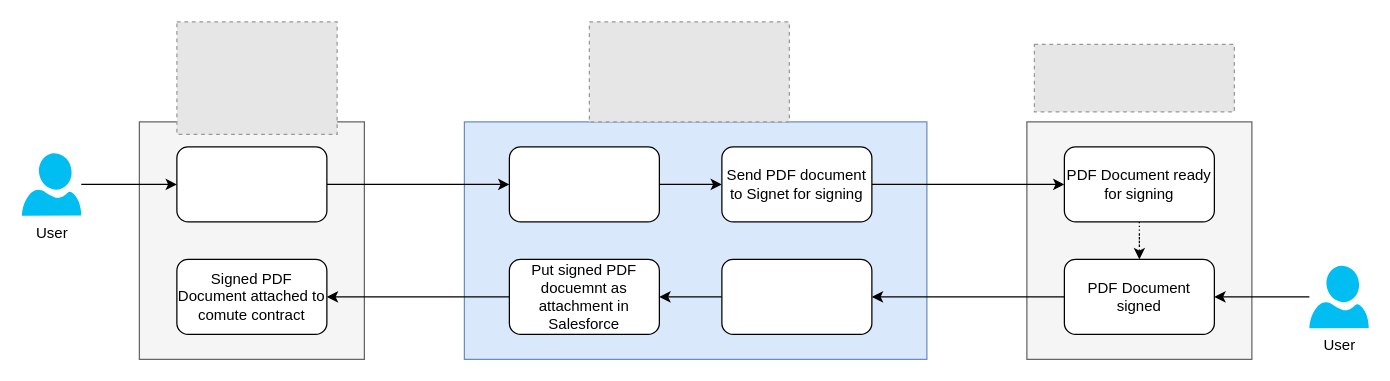
The diagram is 1390 pixels wide and 381 high, and some of its shapes have lost their labels. Grey dashed boxes stand in for pictures. The shapes that lost their labels are listed below. From the top down, each one's box as (x1, y1, x2, y2) in pixels, then its label:
(176, 146, 327, 222): Create commute contract
(508, 146, 659, 222): Create PDF document
(721, 258, 872, 334): Get signed PDF document from Signet
